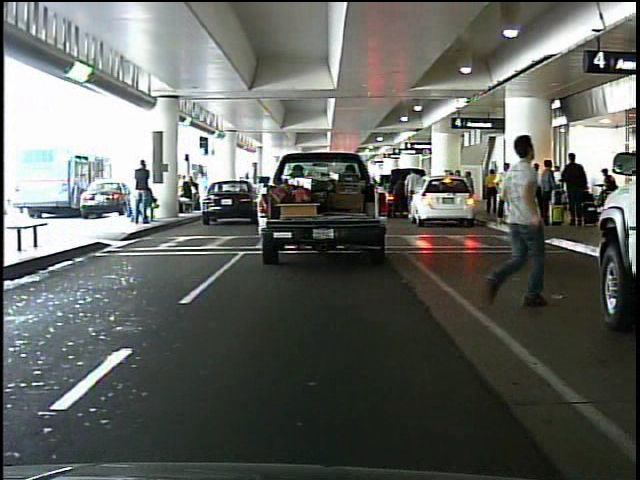person: (472, 118, 554, 325), (562, 143, 590, 230), (492, 157, 523, 229), (131, 157, 155, 227), (538, 152, 555, 231), (402, 165, 425, 221), (597, 164, 620, 192)
